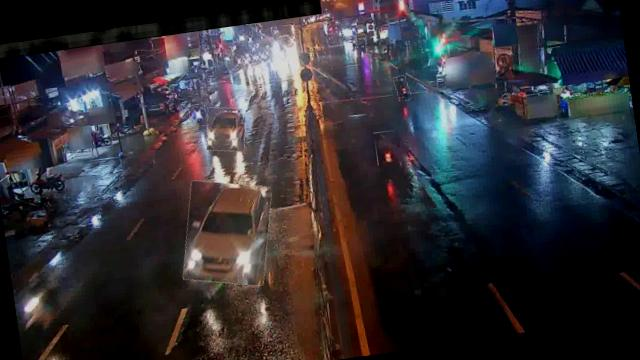Bike: (374, 130, 399, 170), (188, 103, 208, 128), (394, 74, 411, 102)
Car: (174, 175, 278, 292), (203, 103, 249, 154)
